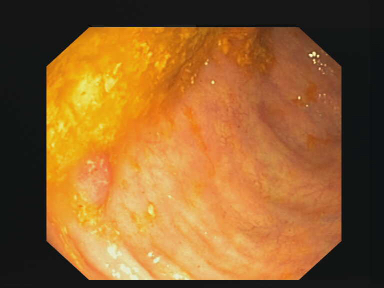polyp: (73, 156, 113, 213)
